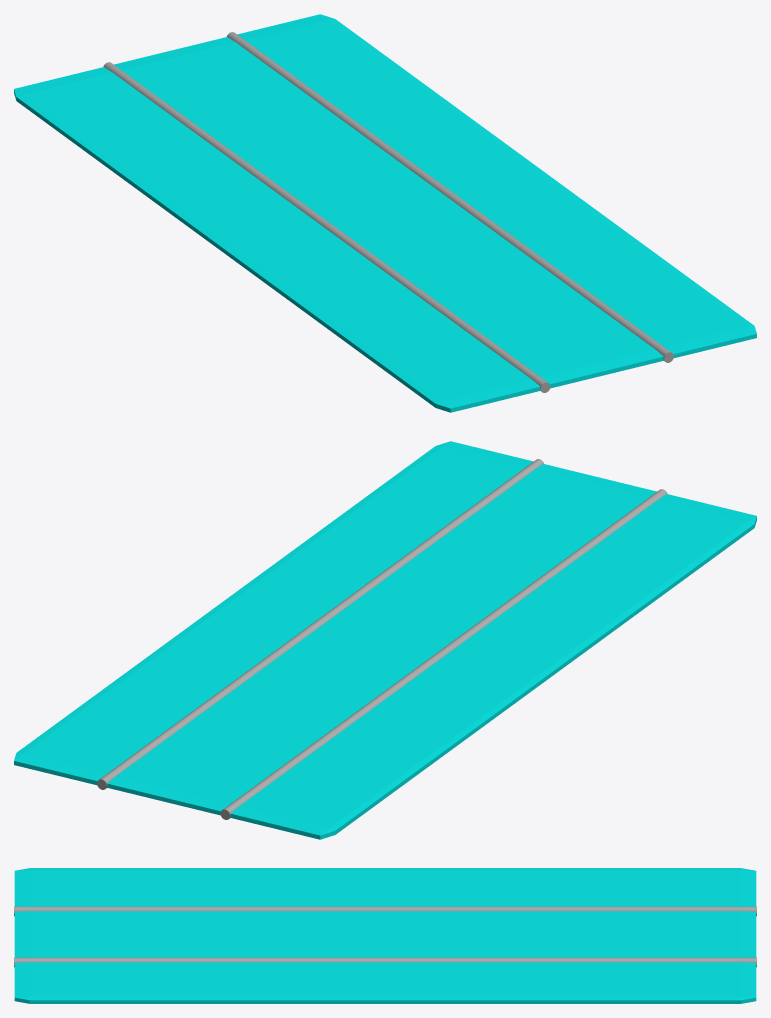
The model's file is Road.fbx.
The picture shows the model from 3 angles, top to bottom: view 1: azimuth 30°, elevation 25°; view 2: azimuth 150°, elevation 25°; view 3: azimuth 270°, elevation 25°; orthographic projection. The views are drawn at different scales.
Parts seen in each view (by area): view 1: pCube1, pCylinder1, pCylinder2; view 2: pCube1, pCylinder1, pCylinder2; view 3: pCube1, pCylinder1, pCylinder2.
Part boxes in pixels (x1=…): pCube1: x1=14, y1=14, x2=756, y2=412; pCylinder1: x1=103, y1=62, x2=550, y2=392; pCylinder2: x1=227, y1=32, x2=673, y2=362; pCube1: x1=14, y1=441, x2=756, y2=839; pCylinder1: x1=220, y1=489, x2=667, y2=819; pCylinder2: x1=97, y1=459, x2=543, y2=789; pCube1: x1=14, y1=868, x2=756, y2=1003; pCylinder1: x1=14, y1=906, x2=756, y2=916; pCylinder2: x1=14, y1=957, x2=756, y2=967.
Bounding box in the file's own units: 0.3725 × 0.0116 × 0.8849.
